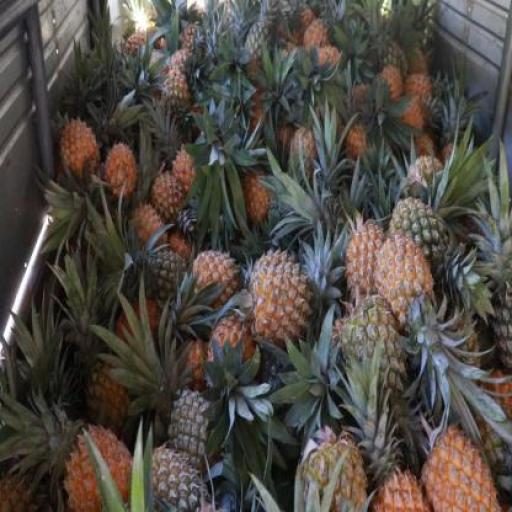------------------------------: (343, 302, 410, 401), (390, 200, 454, 298), (90, 356, 140, 432), (162, 74, 194, 132)
Pineapple - v8 v1: (424, 428, 506, 511), (67, 424, 142, 511), (378, 237, 440, 339), (256, 252, 318, 347), (346, 227, 396, 315), (208, 315, 256, 394), (199, 252, 242, 309), (63, 114, 103, 175), (154, 170, 192, 218), (108, 144, 138, 203)
